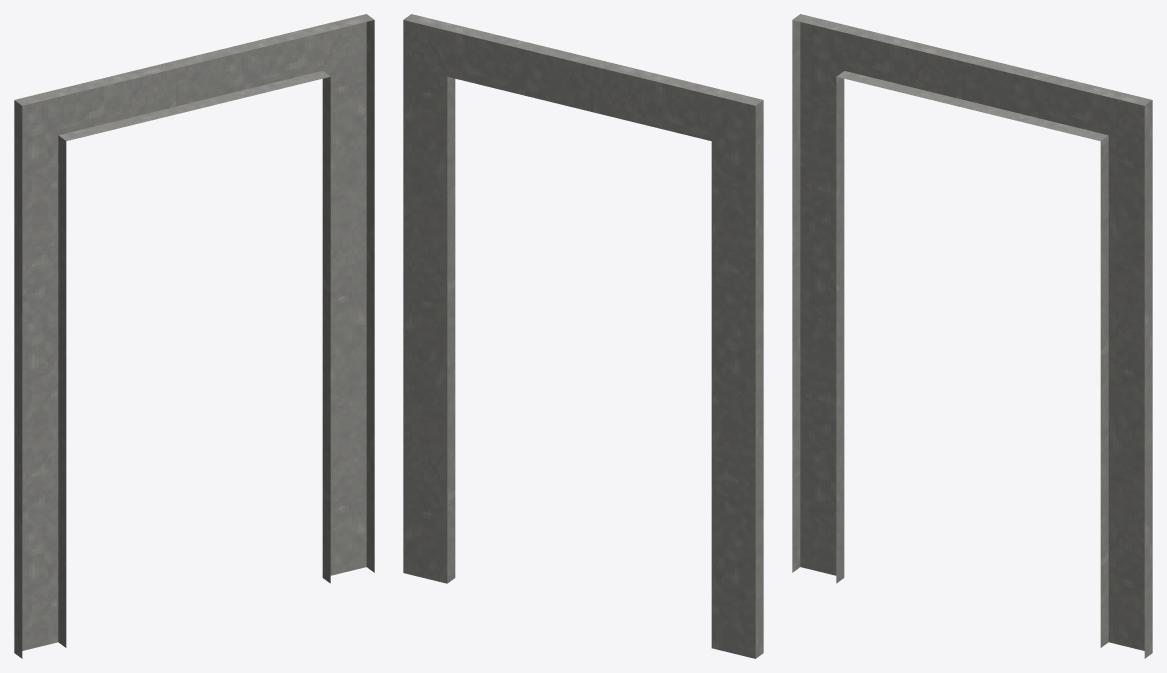
File: GJ_Wall_Trim_03.fbx
The picture shows the model from 3 angles, left to right: view 1: azimuth 30°, elevation 25°; view 2: azimuth 150°, elevation 25°; view 3: azimuth 330°, elevation 25°; orthographic projection.
Parts seen in each view (by area): view 1: GJ_Wall_Trim_03; view 2: GJ_Wall_Trim_03; view 3: GJ_Wall_Trim_03.
Part boxes in pixels (left/top/right/bottom): GJ_Wall_Trim_03: left=14, top=14, right=374, bottom=658; GJ_Wall_Trim_03: left=403, top=14, right=763, bottom=658; GJ_Wall_Trim_03: left=792, top=14, right=1152, bottom=658.
Size of the model in its own units: 150 by 225 by 5.98.
